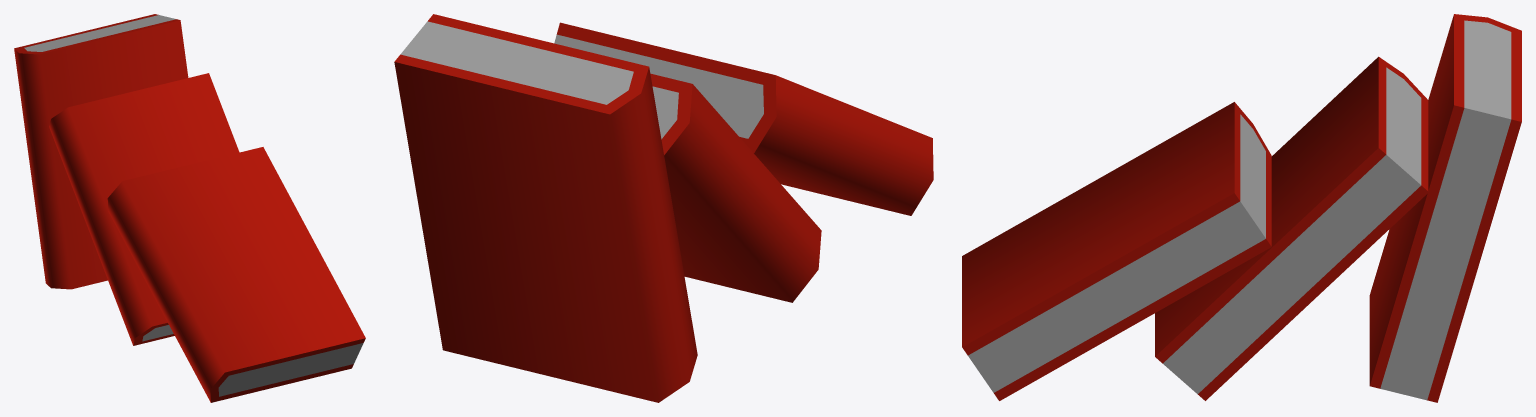
File: GB_098_books_var01.glb
The picture shows the model from 3 angles, left to right: view 1: azimuth 30°, elevation 25°; view 2: azimuth 150°, elevation 25°; view 3: azimuth 270°, elevation 25°; orthographic projection. The views are drawn at different scales.
Parts seen in each view (by area): view 1: Book.007, Book.008, Book.009; view 2: Book.009, Book.007, Book.008; view 3: Book.007, Book.008, Book.009.
Boxes of the visible parts, <box> form: Book.007: <box>107,147,365,402</box>; Book.008: <box>49,73,239,345</box>; Book.009: <box>14,14,188,289</box>; Book.009: <box>394,14,697,402</box>; Book.007: <box>554,22,933,215</box>; Book.008: <box>650,73,821,302</box>; Book.007: <box>962,102,1271,400</box>; Book.008: <box>1155,56,1428,400</box>; Book.009: <box>1369,14,1521,402</box>.
Bounding box in the file's own units: 0.389 × 0.5614 × 0.9567.
